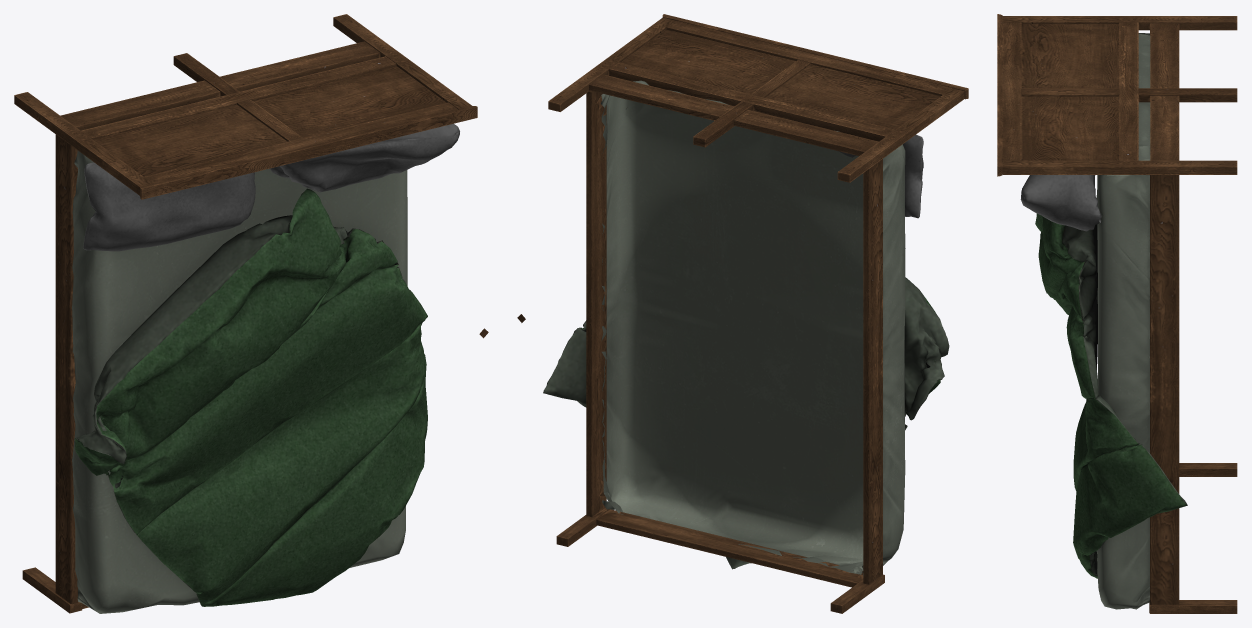
File: bedroom_bed_clean.glb
3 views of the same model, side by side, from view 1: azimuth 30°, elevation 25°; view 2: azimuth 150°, elevation 25°; view 3: azimuth 270°, elevation 25° (orthographic). The views are drawn at different scales.
Parts seen in each view (by area): view 1: SM_Bed_01; view 2: SM_Bed_01; view 3: SM_Bed_01.
Part boxes in pixels (<box>): SM_Bed_01: <box>14,14,488,613</box>; SM_Bed_01: <box>517,14,968,613</box>; SM_Bed_01: <box>997,14,1237,613</box>.
Bounding box in the file's own units: 228 × 288 × 133.
Materials: 1 (1 with a texture image).
